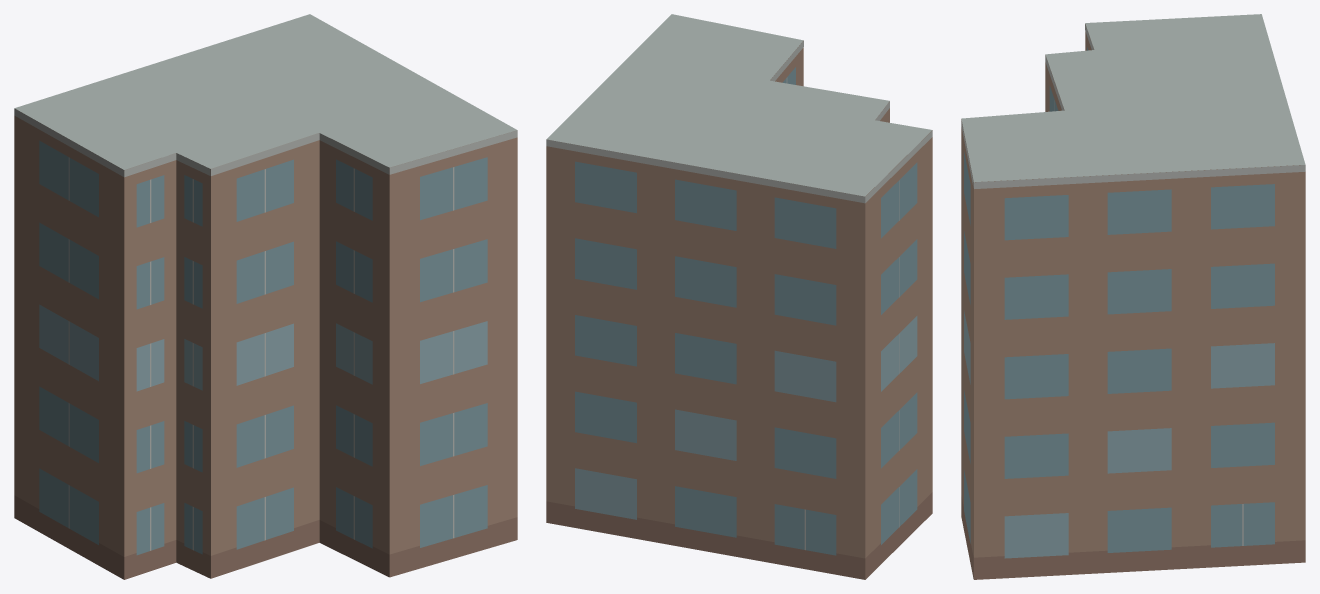
The model's file is survey-upis-32531001.glb.
The picture shows the model from 3 angles, left to right: view 1: azimuth 30°, elevation 25°; view 2: azimuth 150°, elevation 25°; view 3: azimuth 270°, elevation 25°; orthographic projection. The views are drawn at different scales.
Parts seen in each view (by area): view 1: survey-upis-32531001.tmp; view 2: survey-upis-32531001.tmp; view 3: survey-upis-32531001.tmp.
Part boxes in pixels (bbox=[...]): survey-upis-32531001.tmp: bbox=[14, 14, 517, 579]; survey-upis-32531001.tmp: bbox=[546, 14, 932, 579]; survey-upis-32531001.tmp: bbox=[961, 14, 1305, 579].
Bounding box in the file's own units: 12.57 × 13.85 × 10.88.
